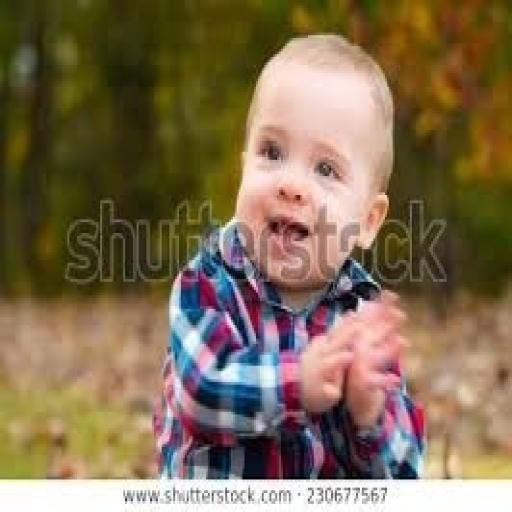clapping: (150, 30, 429, 479)
